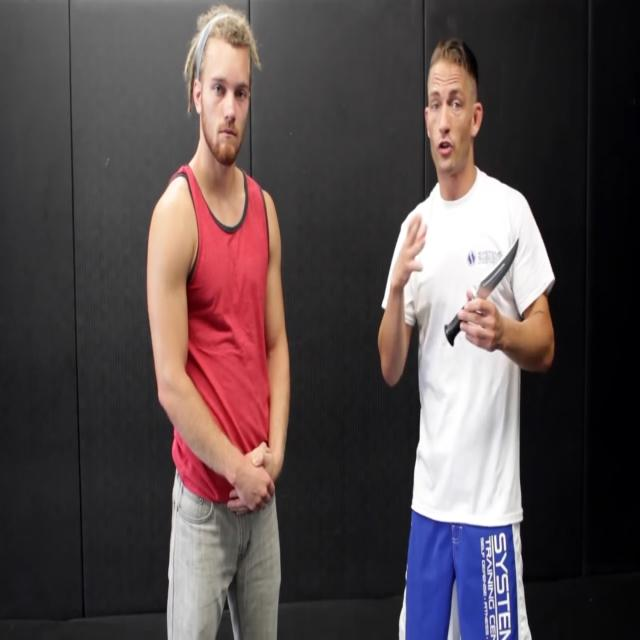knife: (438, 237, 528, 353)
